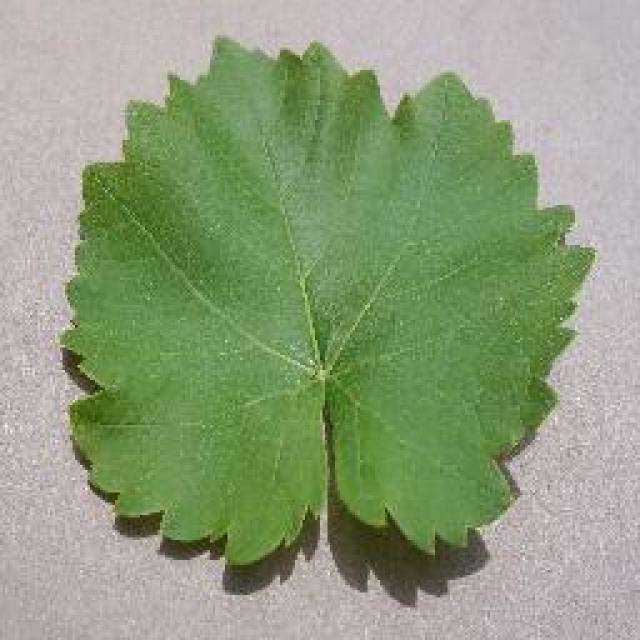Healthy: (62, 37, 604, 581)
